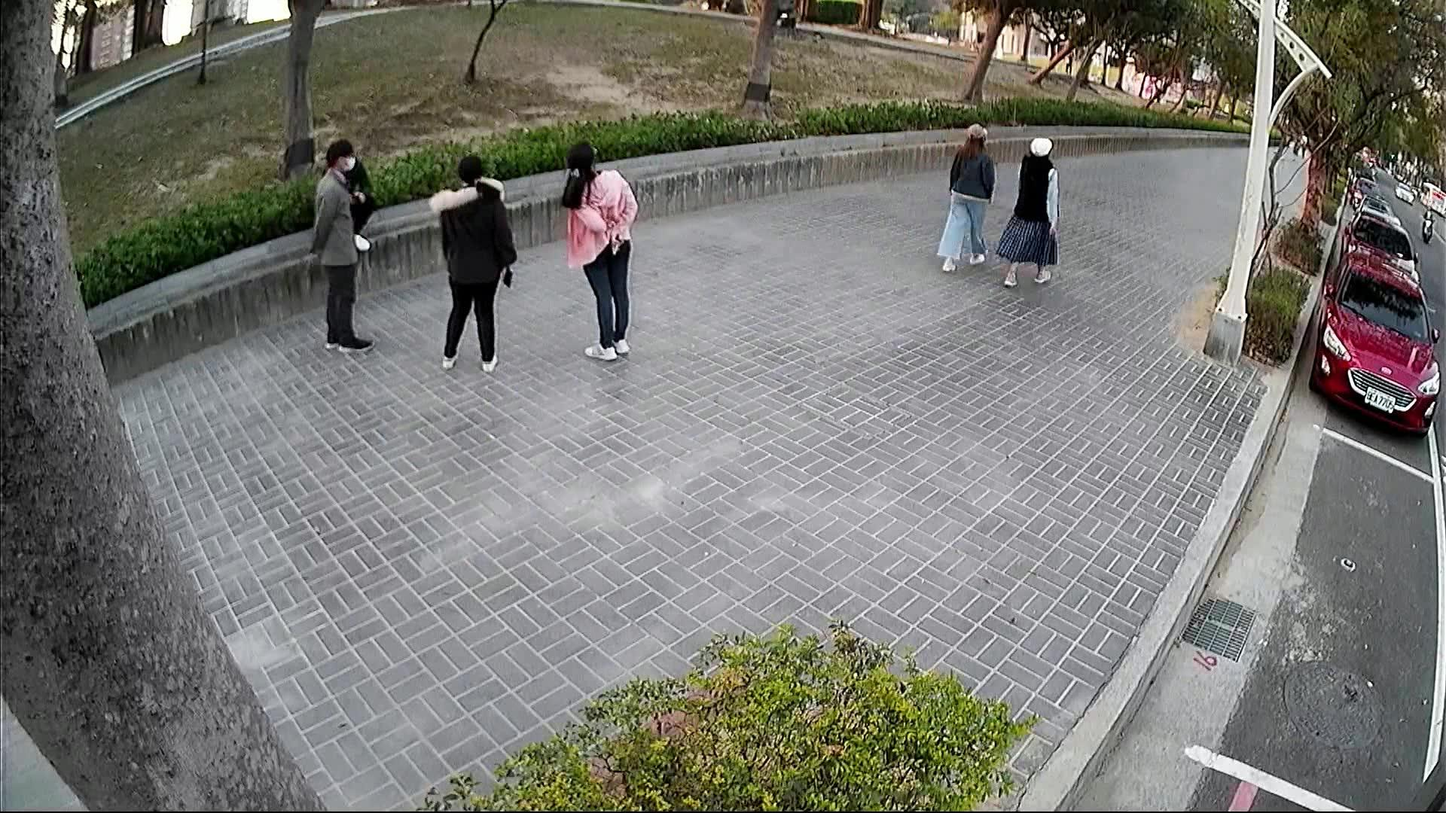person: (420, 148, 519, 376), (557, 133, 639, 366), (300, 134, 377, 357), (990, 131, 1065, 294), (932, 116, 1000, 278)
